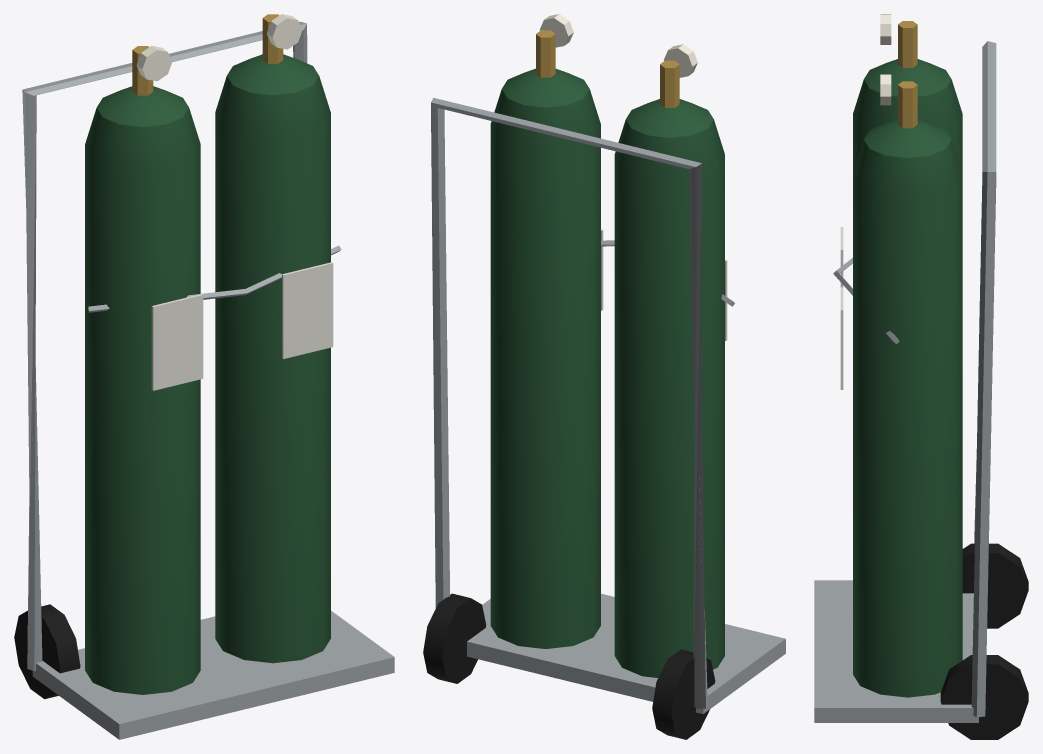
File: oxygen_tanks.glb
The picture shows the model from 3 angles, left to right: view 1: azimuth 30°, elevation 25°; view 2: azimuth 150°, elevation 25°; view 3: azimuth 270°, elevation 25°; orthographic projection. The views are drawn at different scales.
Visible parts, largest first — view 1: O2; view 2: O2; view 3: O2.
Boxes of the visible parts, box(x1,y1,x2,y2) form: O2: box(14, 14, 394, 739); O2: box(423, 14, 785, 739); O2: box(814, 14, 1028, 739).
Size of the model in its own units: 0.5666 by 1.28 by 0.39.
